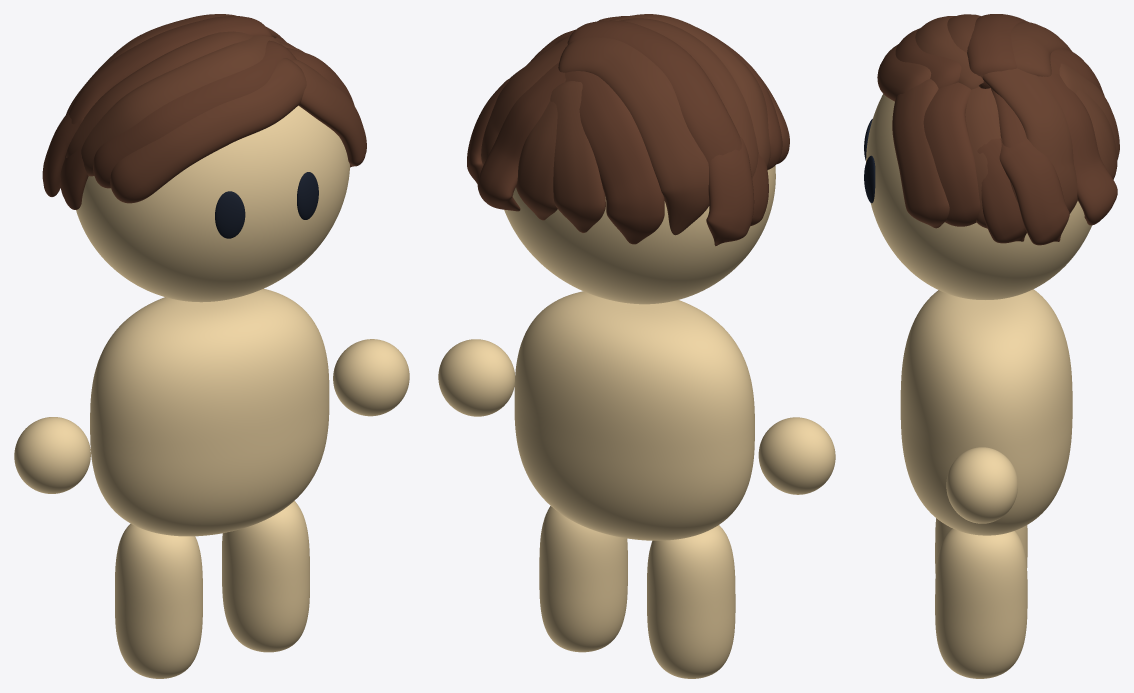
The model's file is Masculine-skin1.glb.
3 views of the same model, side by side, from view 1: azimuth 30°, elevation 25°; view 2: azimuth 150°, elevation 25°; view 3: azimuth 270°, elevation 25° (orthographic). The views are drawn at different scales.
Visible parts, largest first — view 1: Skin / compact torso, Skin / soft oval head, Skin / leg -1, Skin / leg 1, Hair / Main sweep 0, Hair / Main sweep 2, Hair / Main sweep 1, Skin / hand 1, Skin / hand -1, Hair / Crown sweep, Hair / Main sweep 3, Hair / Short side 0 (+6 smaller); view 2: Skin / compact torso, Skin / soft oval head, Skin / leg -1, Hair / Back sweep 0, Skin / leg 1, Hair / Back sweep 1, Hair / Crown sweep, Hair / Back sweep 2, Skin / hand -1, Skin / hand 1, Hair / Back sweep 4, Hair / Temple -1 1 (+7 smaller); view 3: Skin / compact torso, Skin / soft oval head, Skin / leg 1, Hair / Short side 1, Hair / Short side 0, Hair / Back sweep 3, Hair / Temple 1 1, Skin / hand 1, Hair / Back sweep 4, Hair / Temple 1 0, Hair / Crown sweep, Hair / Short side 2 (+11 smaller).
Boxes of the visible parts, x1=… form: Skin / compact torso: x1=90, y1=288, x2=329, y2=536; Skin / soft oval head: x1=76, y1=105, x2=349, y2=302; Skin / leg -1: x1=115, y1=523, x2=202, y2=678; Skin / leg 1: x1=222, y1=501, x2=309, y2=652; Hair / Main sweep 0: x1=110, y1=58, x2=306, y2=203; Hair / Main sweep 2: x1=81, y1=35, x2=281, y2=176; Hair / Main sweep 1: x1=93, y1=40, x2=296, y2=188; Skin / hand 1: x1=333, y1=339, x2=409, y2=416; Skin / hand -1: x1=14, y1=417, x2=90, y2=493; Hair / Crown sweep: x1=65, y1=16, x2=272, y2=158; Hair / Main sweep 3: x1=66, y1=31, x2=252, y2=157; Hair / Short side 0: x1=292, y1=59, x2=366, y2=167; Skin / compact torso: x1=514, y1=291, x2=754, y2=540; Skin / soft oval head: x1=504, y1=165, x2=775, y2=304; Skin / leg -1: x1=647, y1=525, x2=735, y2=678; Hair / Back sweep 0: x1=558, y1=37, x2=709, y2=235; Skin / leg 1: x1=539, y1=506, x2=627, y2=652; Hair / Back sweep 1: x1=565, y1=71, x2=664, y2=244; Hair / Crown sweep: x1=567, y1=20, x2=741, y2=163; Hair / Back sweep 2: x1=550, y1=81, x2=605, y2=232; Skin / hand -1: x1=758, y1=417, x2=835, y2=494; Skin / hand 1: x1=438, y1=339, x2=515, y2=416; Hair / Back sweep 4: x1=477, y1=62, x2=565, y2=211; Hair / Temple -1 1: x1=706, y1=136, x2=754, y2=246; Skin / compact torso: x1=900, y1=289, x2=1072, y2=535; Skin / soft oval head: x1=866, y1=94, x2=1091, y2=299; Skin / leg 1: x1=935, y1=528, x2=1027, y2=678; Hair / Short side 1: x1=923, y1=82, x2=980, y2=226; Hair / Short side 0: x1=892, y1=79, x2=949, y2=228; Hair / Back sweep 3: x1=982, y1=68, x2=1077, y2=213; Hair / Temple 1 1: x1=999, y1=138, x2=1069, y2=245; Skin / hand 1: x1=946, y1=447, x2=1017, y2=523; Hair / Back sweep 4: x1=1038, y1=73, x2=1117, y2=225; Hair / Temple 1 0: x1=977, y1=138, x2=1026, y2=243; Hair / Crown sweep: x1=967, y1=14, x2=1027, y2=88; Hair / Short side 2: x1=965, y1=86, x2=1000, y2=228.
Bounding box in the file's own units: 1.49 × 2.32 × 0.8691.
